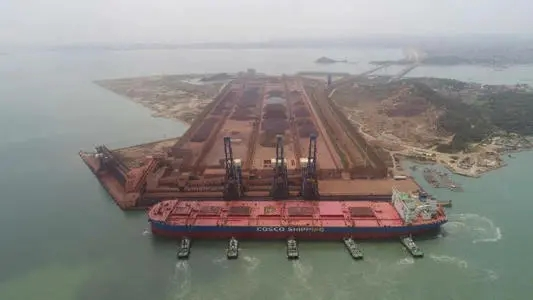Cargoship: (145, 177, 449, 242)
otherboat: (344, 236, 366, 262), (174, 235, 194, 263), (282, 236, 302, 264), (401, 234, 424, 257), (226, 235, 244, 263)
